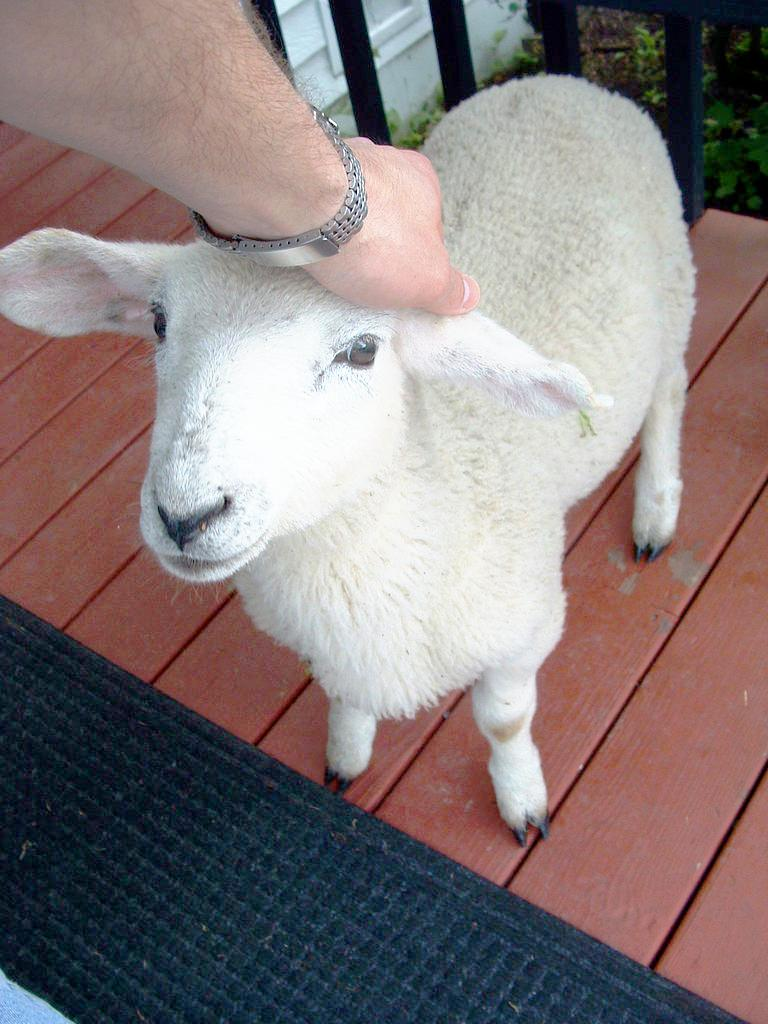Sheep: (0, 76, 696, 846)
